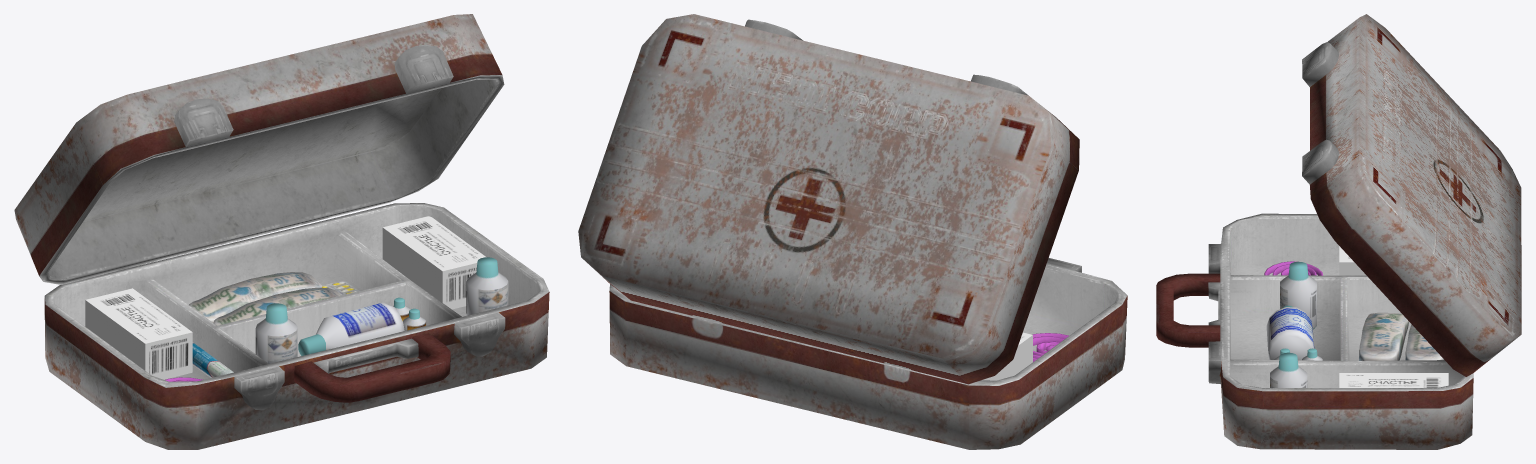
File: first_aid_kit.fbx
3 views of the same model, side by side, from view 1: azimuth 30°, elevation 25°; view 2: azimuth 150°, elevation 25°; view 3: azimuth 270°, elevation 25° (orthographic). The views are drawn at different scales.
Parts seen in each view (by area): view 1: Body2_low, Body22_low, ruchka_low, ExtrToBrep_000006_low, ExtrToBrep_000006_low001, butl_3_low, bint_low001, butl_low, butl_low002, bint_low, shpric_low001; view 2: Body2_low, Body22_low, ExtrToBrep_000006_low, zhgut_low; view 3: Body2_low, Body22_low, ruchka_low, bint_low, butl_3_low, ExtrToBrep_000006_low001, butl_low, butl_low002, bint_low001, ExtrToBrep_000006_low, zhgut_low.
Part boxes in pixels (x1=…): Body2_low: x1=14, y1=14, x2=504, y2=284; Body22_low: x1=44, y1=203, x2=549, y2=449; ruchka_low: x1=294, y1=333, x2=450, y2=402; ExtrToBrep_000006_low: x1=85, y1=288, x2=192, y2=379; ExtrToBrep_000006_low001: x1=382, y1=216, x2=486, y2=309; butl_3_low: x1=298, y1=302, x2=404, y2=355; bint_low001: x1=189, y1=272, x2=322, y2=322; butl_low: x1=255, y1=303, x2=297, y2=363; butl_low002: x1=466, y1=257, x2=508, y2=315; bint_low: x1=213, y1=287, x2=341, y2=325; shpric_low001: x1=192, y1=342, x2=233, y2=377; Body2_low: x1=578, y1=14, x2=1079, y2=384; Body22_low: x1=609, y1=258, x2=1127, y2=449; ExtrToBrep_000006_low: x1=982, y1=332, x2=1032, y2=380; zhgut_low: x1=1032, y1=333, x2=1068, y2=361; Body2_low: x1=1302, y1=14, x2=1521, y2=376; Body22_low: x1=1208, y1=213, x2=1473, y2=449; ruchka_low: x1=1156, y1=273, x2=1220, y2=347; bint_low: x1=1359, y1=312, x2=1408, y2=360; butl_3_low: x1=1266, y1=305, x2=1314, y2=360; ExtrToBrep_000006_low001: x1=1339, y1=373, x2=1448, y2=387; butl_low: x1=1280, y1=261, x2=1316, y2=329; butl_low002: x1=1270, y1=352, x2=1307, y2=387; bint_low001: x1=1405, y1=324, x2=1443, y2=360; ExtrToBrep_000006_low: x1=1339, y1=246, x2=1366, y2=275; zhgut_low: x1=1264, y1=261, x2=1322, y2=275.
Bounding box in the file's own units: 200 × 146 × 174.
Materials: 1 (1 with a texture image).
